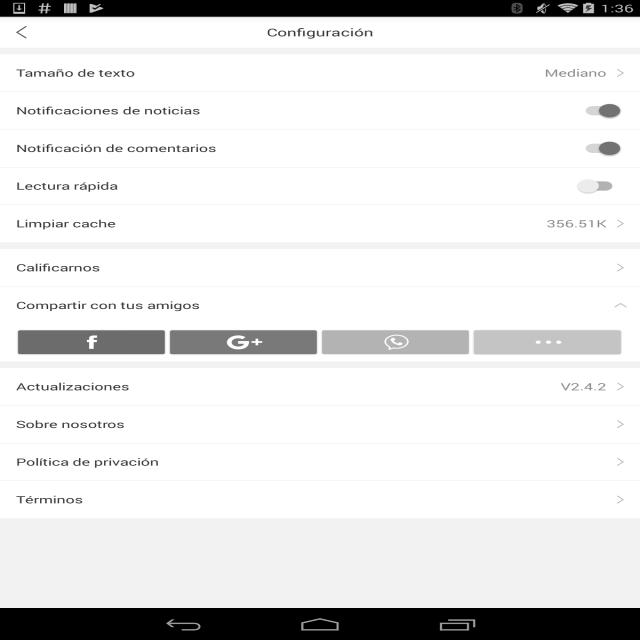ImageButton: (0, 16, 43, 48)
ImageView: (16, 329, 167, 356), (168, 329, 319, 356), (320, 329, 471, 356), (472, 329, 623, 356), (0, 129, 640, 130), (0, 286, 640, 287), (0, 405, 640, 406), (617, 420, 624, 428), (617, 458, 624, 466), (614, 303, 627, 307), (617, 264, 624, 271), (617, 496, 624, 503), (0, 92, 640, 92), (0, 167, 640, 167), (0, 205, 640, 205), (0, 443, 640, 443), (0, 481, 640, 481)
Switch: (574, 102, 624, 120), (574, 140, 624, 158), (574, 177, 624, 195)
TextView: (16, 141, 217, 155), (16, 298, 201, 312), (16, 104, 201, 117), (264, 23, 376, 41), (16, 455, 159, 469), (16, 66, 135, 80), (16, 417, 125, 431), (16, 380, 130, 393), (16, 179, 118, 193), (16, 217, 116, 230), (545, 66, 624, 80), (16, 261, 100, 274), (547, 217, 624, 230), (16, 493, 83, 506), (561, 380, 624, 393)
